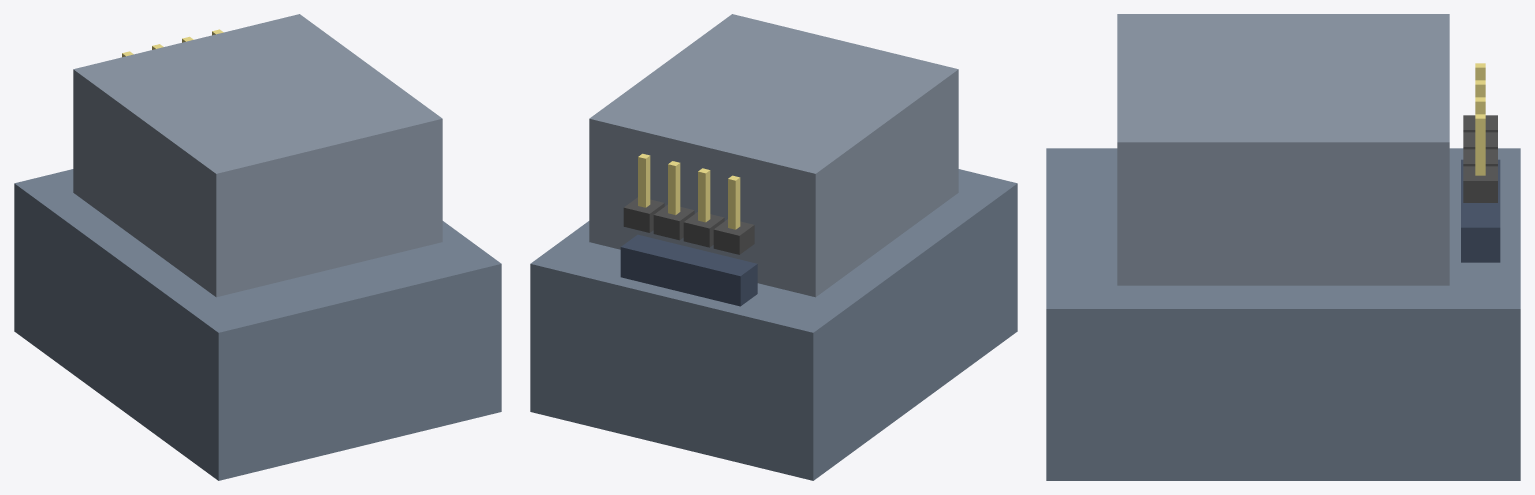
Rendered from led-ring.glb.
3 renders of one model, left to right at view 1: azimuth 30°, elevation 25°; view 2: azimuth 150°, elevation 25°; view 3: azimuth 270°, elevation 25°, orthographic. The views are drawn at different scales.
Visible parts, largest first — view 1: led-ring-ws2812-8_mesh; view 2: led-ring-ws2812-8_mesh; view 3: led-ring-ws2812-8_mesh.
Part boxes in pixels (x1=…): led-ring-ws2812-8_mesh: x1=14, y1=14, x2=501, y2=480; led-ring-ws2812-8_mesh: x1=530, y1=14, x2=1017, y2=480; led-ring-ws2812-8_mesh: x1=1046, y1=14, x2=1520, y2=480.
Size of the model in its own units: 24 by 22.5 by 30.
